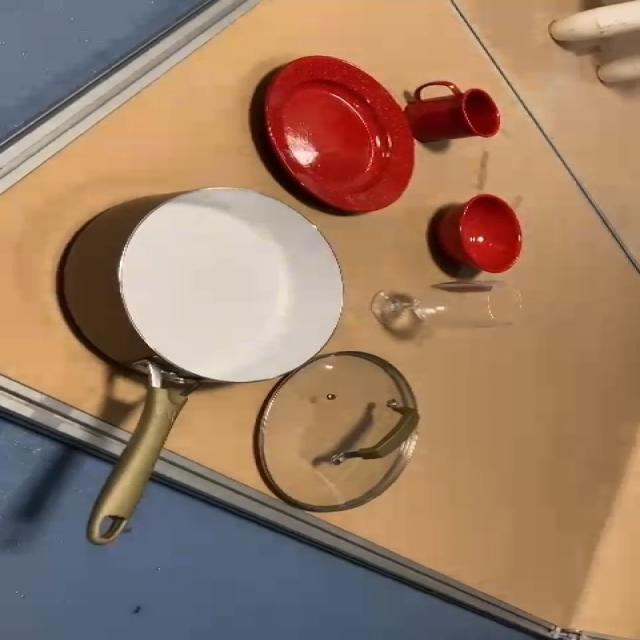Bowl: (438, 194, 520, 276)
Glass: (362, 276, 525, 348)
Plate: (268, 52, 410, 216)
cup: (403, 75, 505, 154)
pot: (58, 183, 357, 542)
